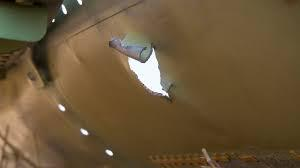Fuselage_damage: (103, 28, 210, 108)
